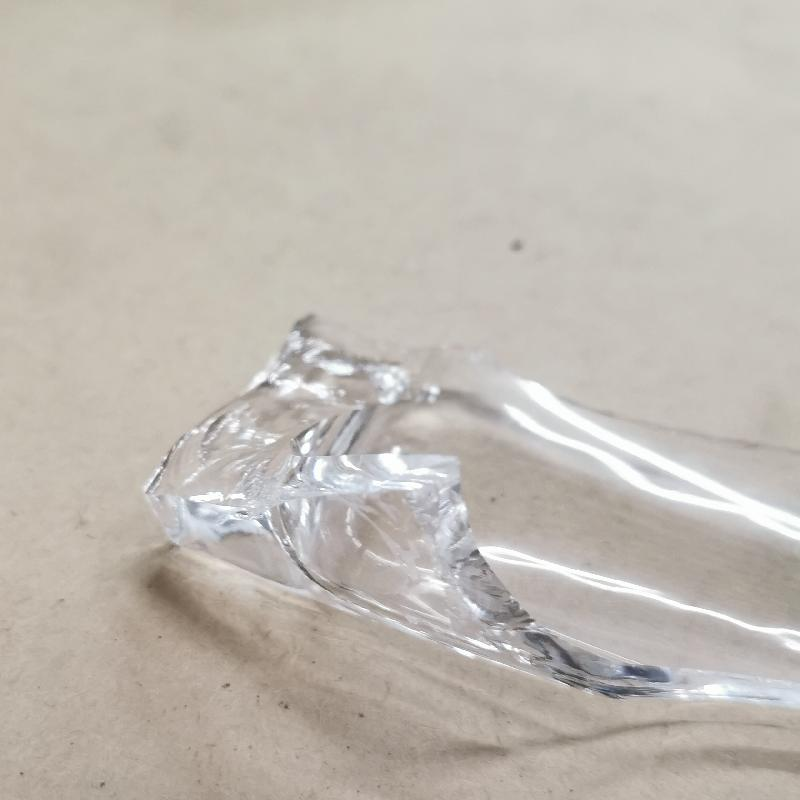glass: (140, 309, 800, 708)
